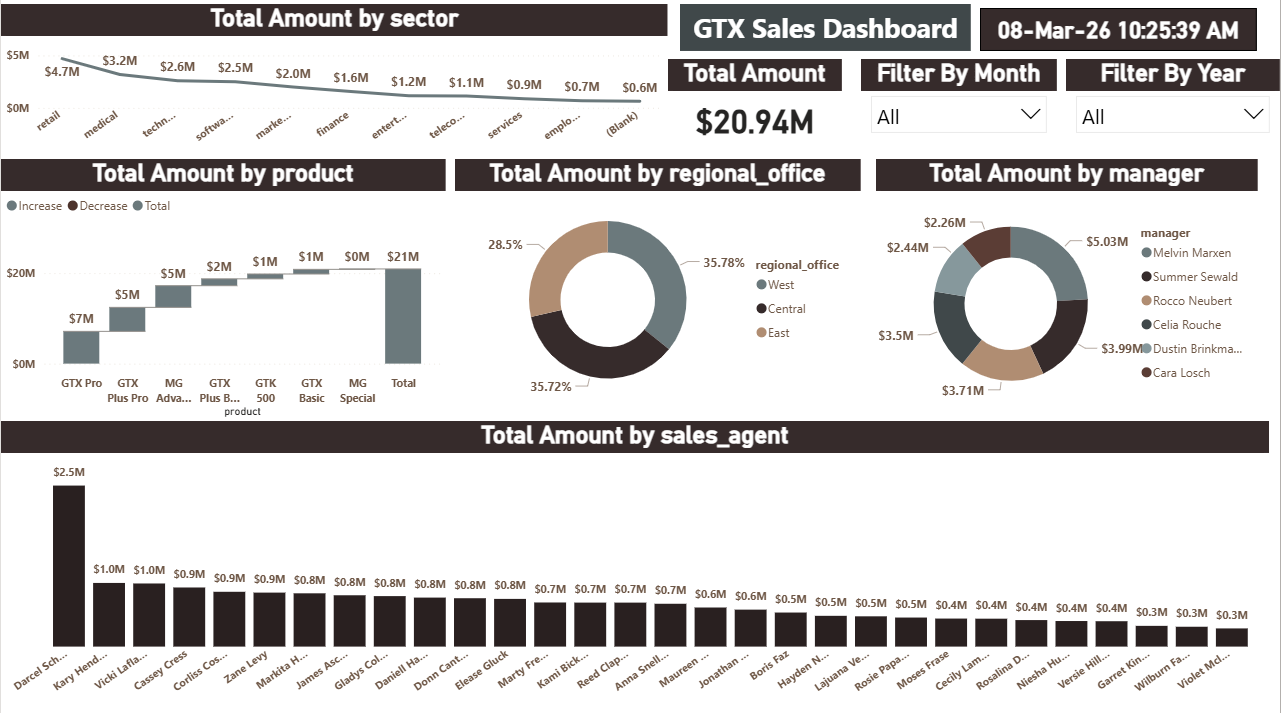

What the dashboard file says about the page in this screenshot:
{"tool":"powerbi","page":{"name":"Dashboard","canvas":[1280,720],"ordinal":0},"visuals":[{"type":"card","title":"Total Amount","fields":{"Values":["accounts.Total Amount"]},"box":[667.5,64.9,173.9,92.9],"z":0},{"type":"lineChart","fields":{"Category":["accounts.sector"],"Y":["accounts.Total Amount"]},"box":[0,10,667.5,147.9],"z":1000},{"type":"slicer","title":"Filter By Month","fields":{"Values":["sales_pipeline.Month Name"]},"box":[860.3,64.9,195.8,76.9],"z":2000},{"type":"slicer","title":"Filter By Year","fields":{"Values":["sales_pipeline.Year"]},"box":[1066.2,64.9,213.8,76.9],"z":3000},{"type":"card","title":"Data&Time","fields":{"Values":["accounts.DateTime"]},"box":[980.2,14,276.8,43],"z":4000},{"type":"donutChart","fields":{"Category":["sales_teams.manager"],"Y":["accounts.Total Amount"]},"box":[875.3,164.9,381.7,262.8],"z":5000},{"type":"donutChart","fields":{"Category":["sales_teams.regional_office"],"Y":["accounts.Total Amount"]},"box":[454.6,164.9,405.7,254.8],"z":6000},{"type":"waterfallChart","fields":{"Category":["products.product"],"Y":["accounts.Total Amount"]},"box":[0,164.9,444.7,262.8],"z":7000},{"type":"columnChart","fields":{"Category":["sales_teams.sales_agent"],"Y":["accounts.Total Amount"]},"box":[0,427.7,1269,281.8],"z":8000},{"type":"textbox","box":[679.5,10,291.2,47],"z":8002}]}

Visuals, with their boxes in screenshot pixels (x1, y1, x2, y2), scaled from the page's 1280x720 canvas onto the 1281x713 screenshot:
"Total Amount" card: <box>668,64,842,156</box>
lineChart - accounts.sector x accounts.Total Amount: <box>0,10,668,156</box>
"Filter By Month" slicer: <box>861,64,1057,140</box>
"Filter By Year" slicer: <box>1067,64,1280,140</box>
"Data&Time" card: <box>981,14,1258,56</box>
donutChart - sales_teams.manager x accounts.Total Amount: <box>876,163,1258,424</box>
donutChart - sales_teams.regional_office x accounts.Total Amount: <box>455,163,861,416</box>
waterfallChart - products.product x accounts.Total Amount: <box>0,163,445,424</box>
columnChart - sales_teams.sales_agent x accounts.Total Amount: <box>0,424,1270,703</box>
textbox: <box>680,10,971,56</box>
